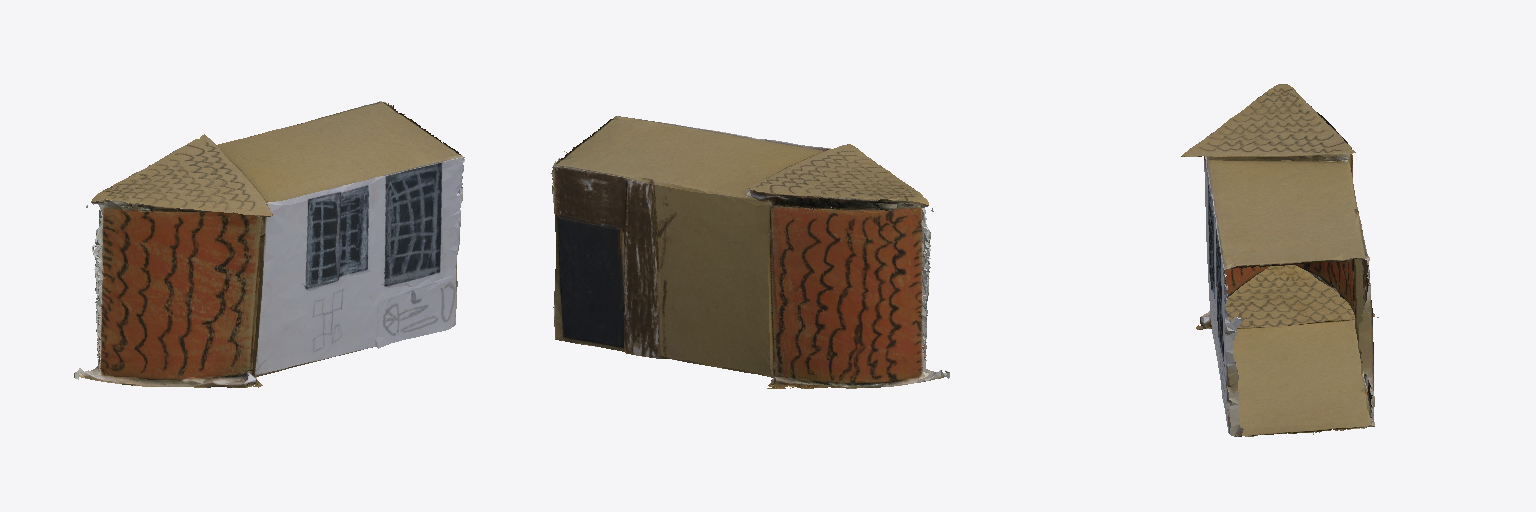
The picture shows the model from 3 angles: view 1: azimuth 30°, elevation 25°; view 2: azimuth 150°, elevation 25°; view 3: azimuth 270°, elevation 25°; orthographic projection.
Size of the model in its own units: 3.25 by 1.66 by 1.53.
1 materials, 1 textured.